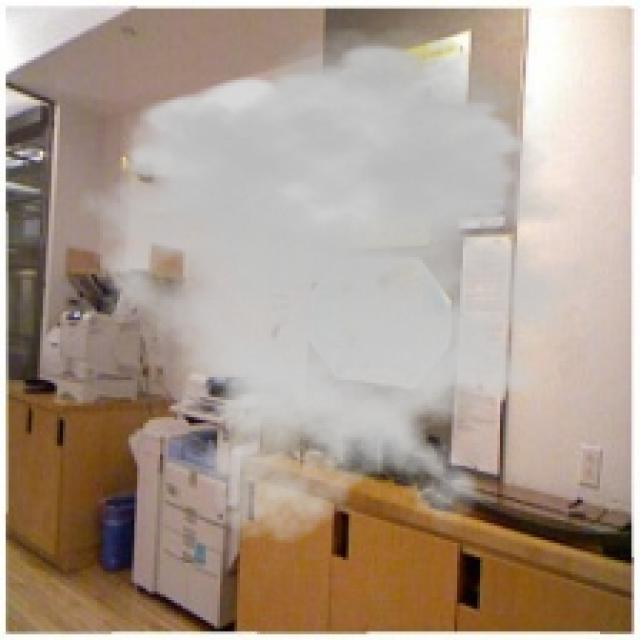smoke: (69, 26, 634, 546)
